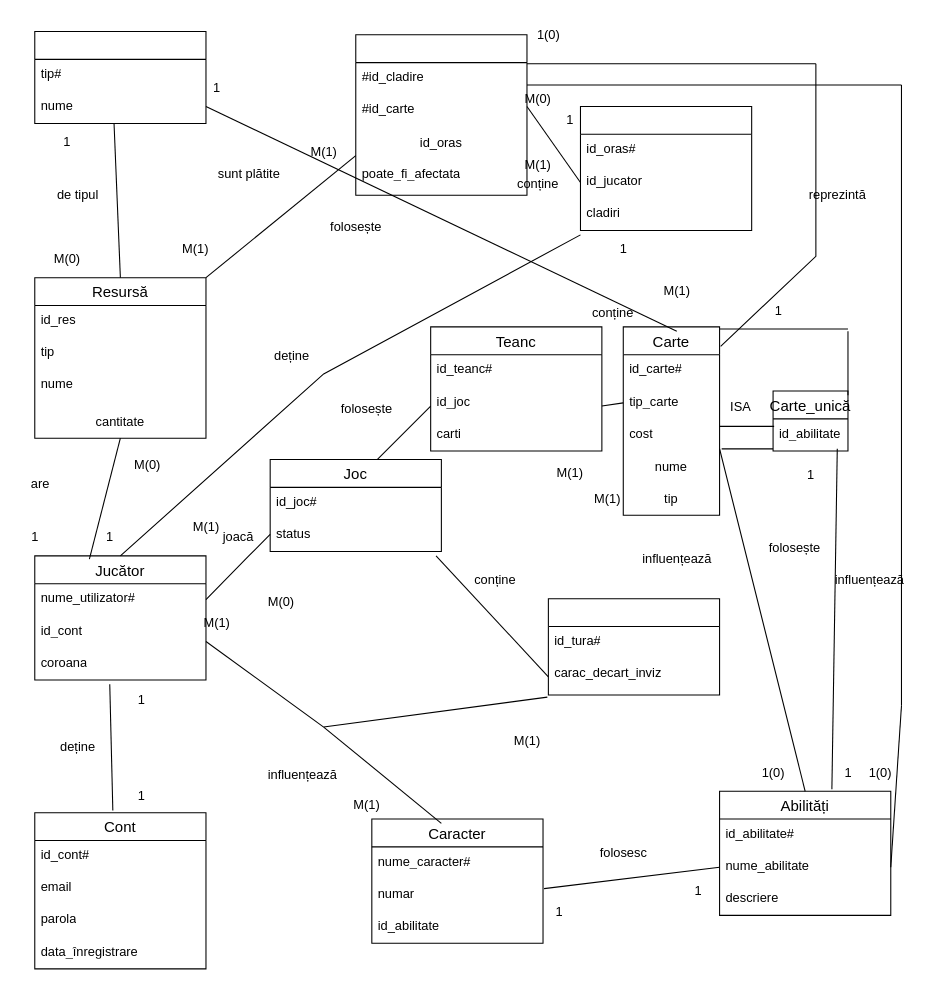
Some shapes in this 935 by 990 pixel diagram are drawn without their labels. Here are the shapes that lost their labels. From the top down, the box of each, then its label:
(34, 30, 206, 124): Tip resursă
(355, 34, 527, 195): Clădire
(579, 105, 752, 231): Oraș
(547, 598, 720, 695): Tură
